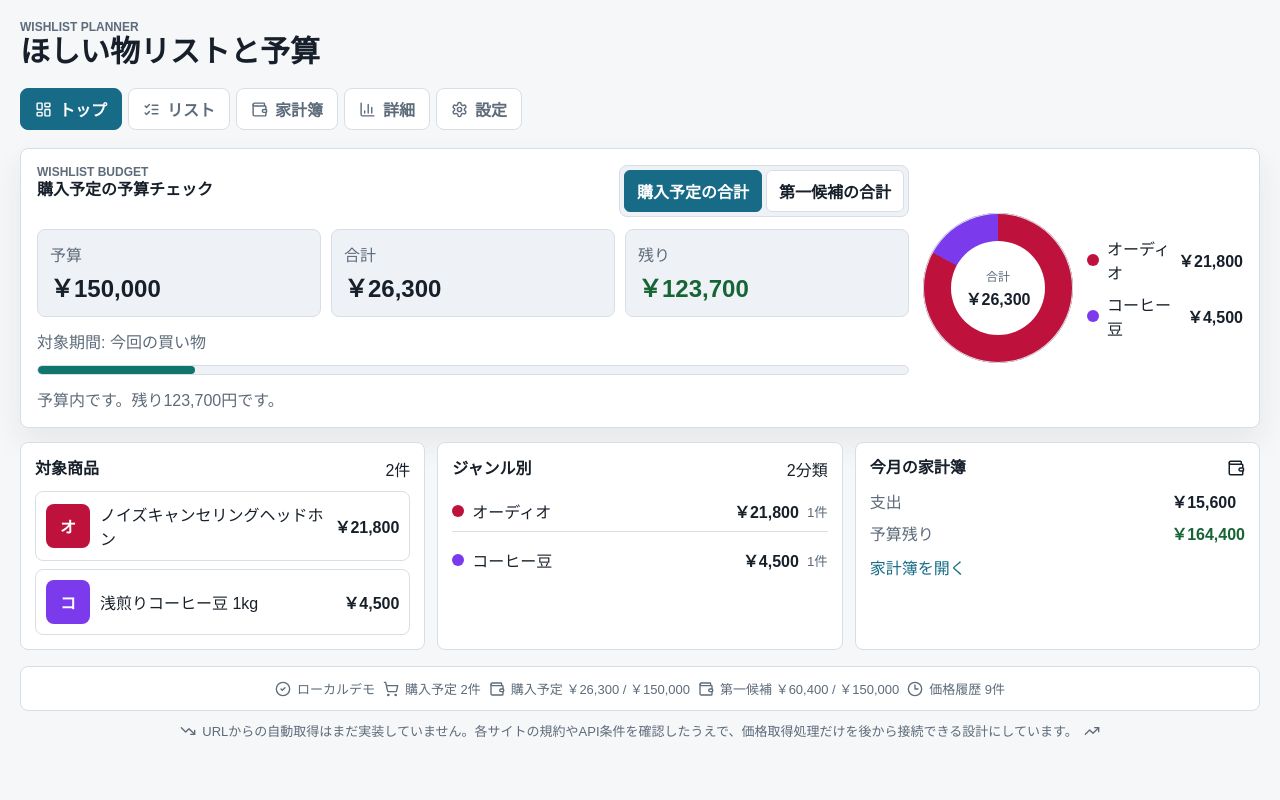
Test: PriceApp › 購入予定の合計を初期表示し、第一候補の合計へ切り替えられる
Expected: the heading "購入予定の予算チェック" is shown, [37,179,213,201]
Expected: the element with test id "budget-product-list" shows "ノイズキャンセリングヘッドホン", [35,491,410,561]
Step 1. Click the button with test id "budget-mode-primary" → click(835, 191), box [766,170,904,212]
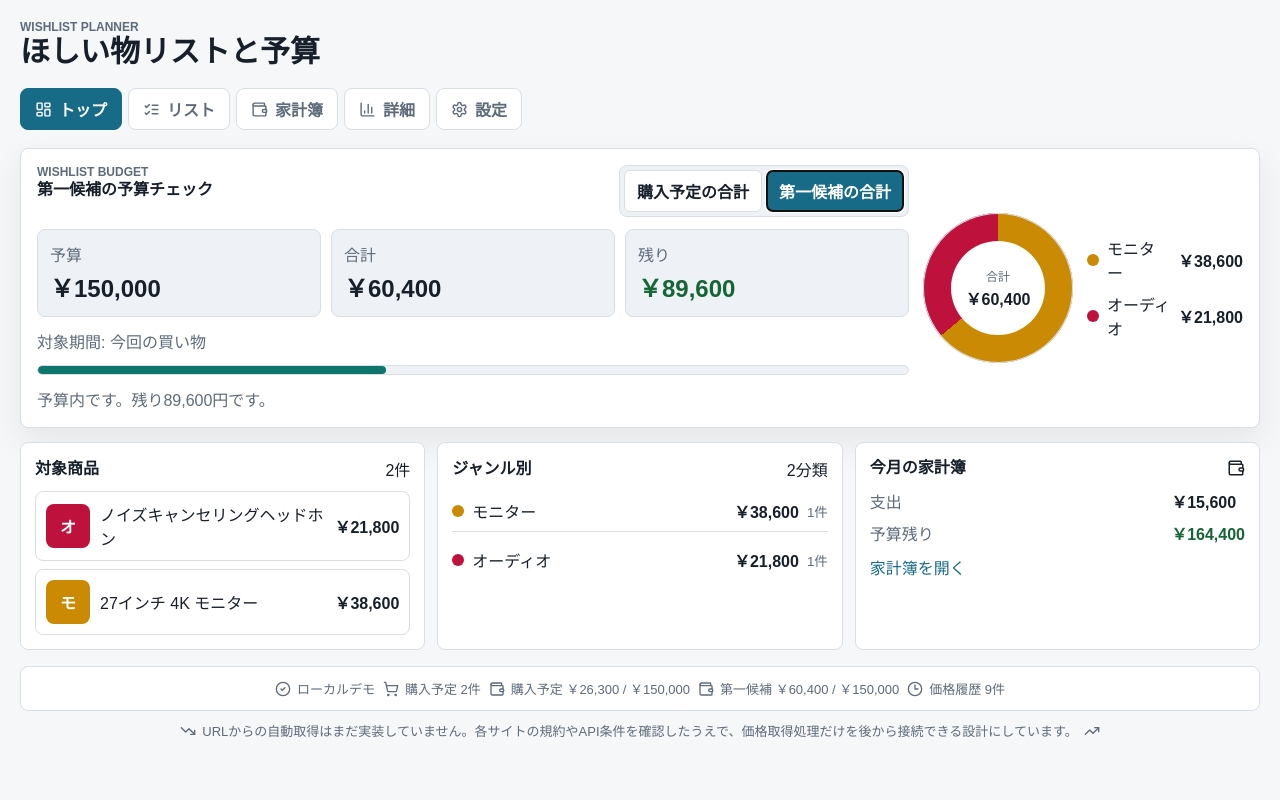
Result: the heading "第一候補の予算チェック" is shown at [37,179,213,201]
Result: the element with test id "budget-product-list" shows "27インチ 4K モニター" at [35,569,410,635]
